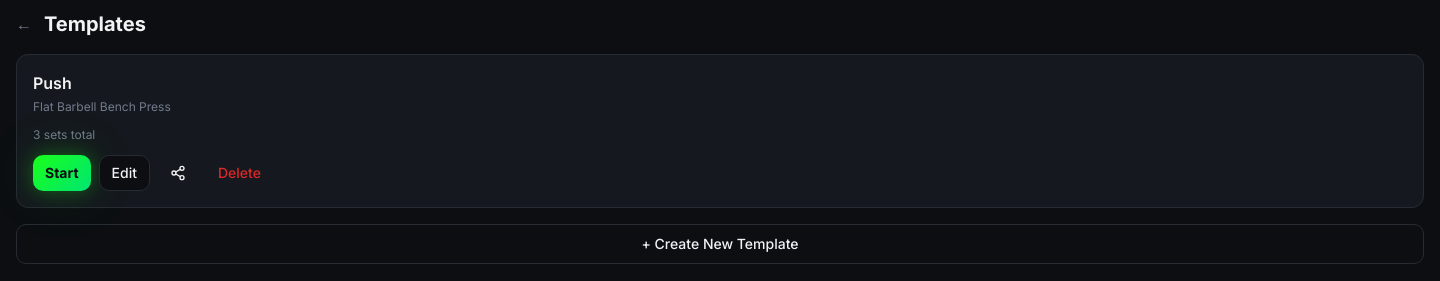
the templates list long press › opens the menu after a held touch
Step 1. Press the mouse on the element showing "Push Flat Barbell Bench Press 3 sets total Start Edit Delete" → {"x": 720, "y": 131}, box [16,54,1424,208]
Wait 500 ms
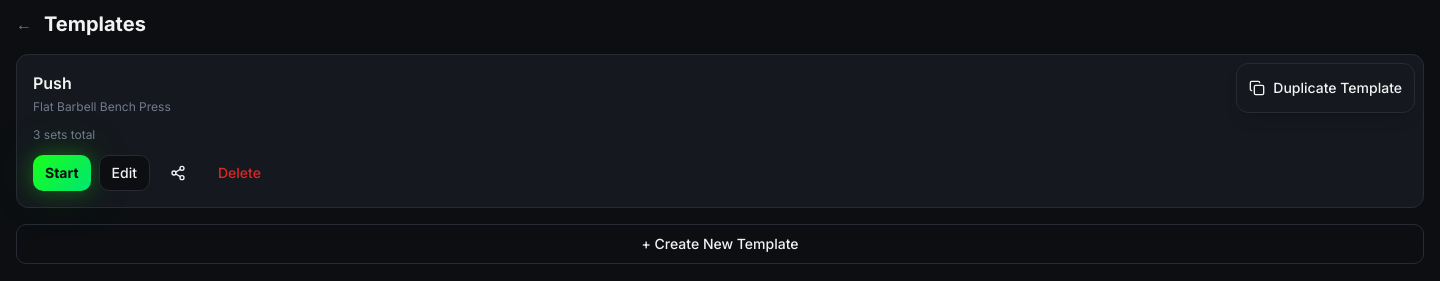
Check: the button "Duplicate Template" is shown, box [1237,68,1414,108]
